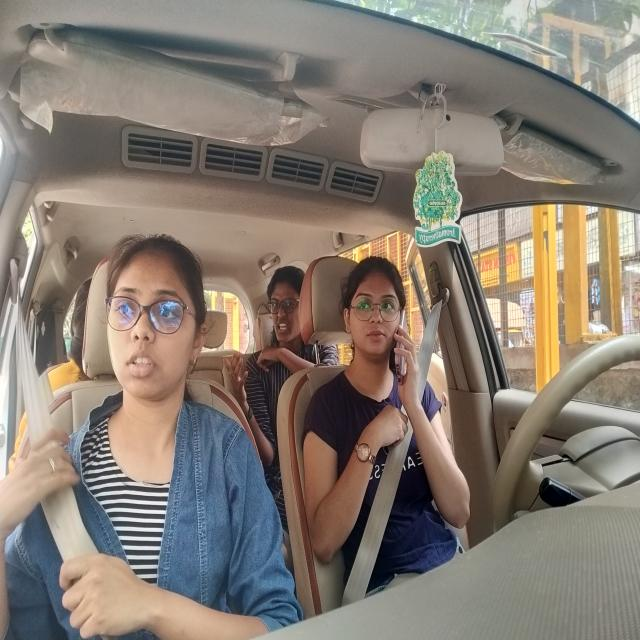mobile: (392, 306, 412, 378)
person: (108, 236, 200, 405), (342, 258, 417, 378), (264, 264, 304, 341)
